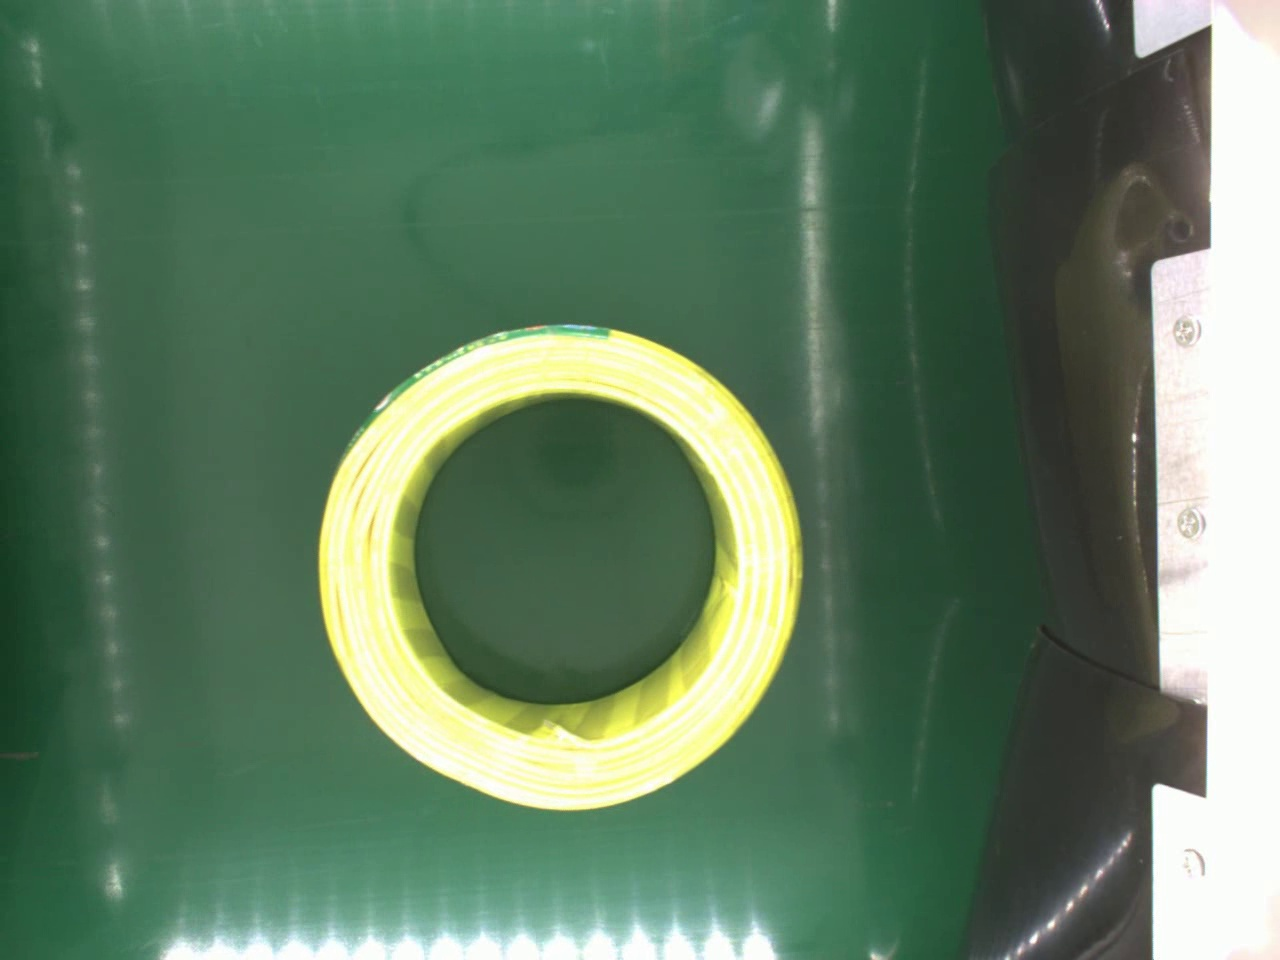yellow: (313, 321, 808, 815)
